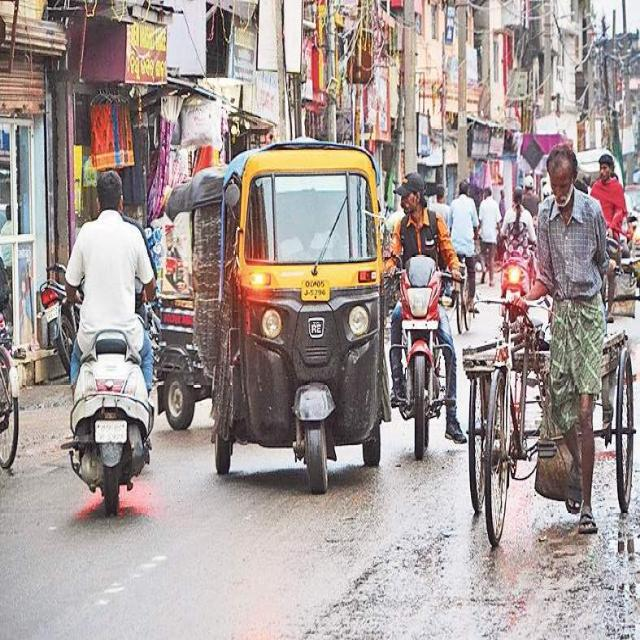autorickshaw: (211, 139, 381, 492), (152, 167, 224, 428)
bicycle: (462, 144, 634, 547), (448, 180, 479, 333)
motorcycle: (65, 171, 156, 515), (390, 172, 466, 458), (501, 187, 536, 297)
